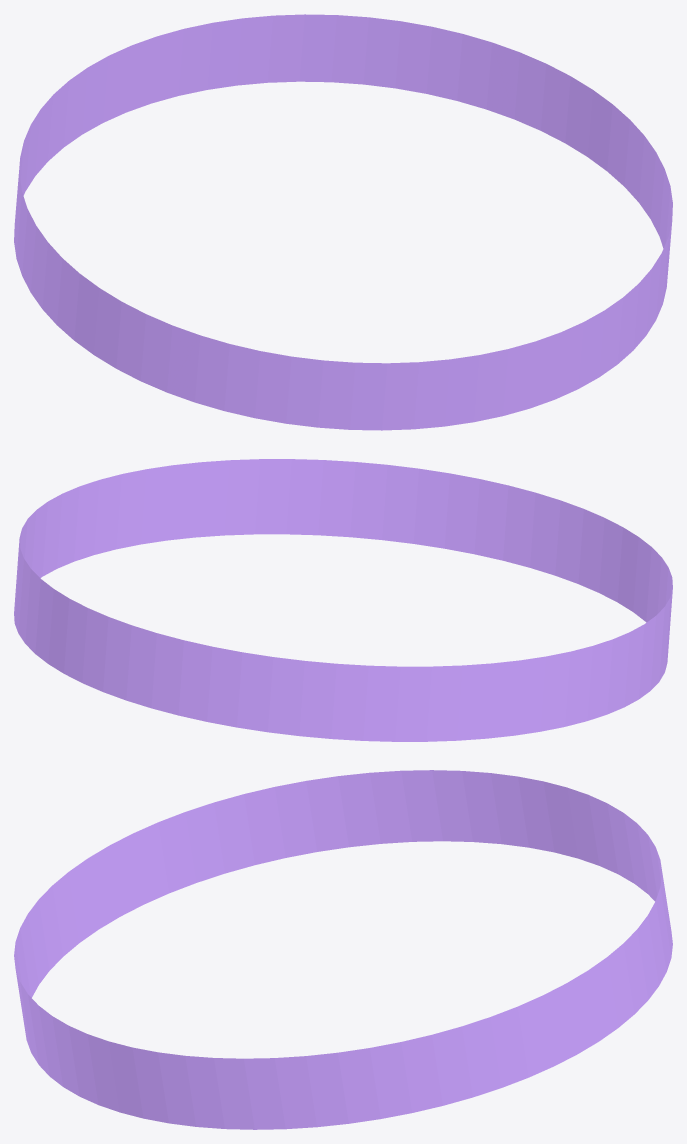
Rendered from fx-concentration.glb.
3 views of the same model, one above another, from view 1: azimuth 30°, elevation 25°; view 2: azimuth 150°, elevation 25°; view 3: azimuth 270°, elevation 25° (orthographic).
Visible parts, largest first — view 1: Concentration_band; view 2: Concentration_band; view 3: Concentration_band.
Boxes of the visible parts, box(x1,y1,x2,y2) form: Concentration_band: box(14, 14, 672, 430); Concentration_band: box(14, 459, 672, 741); Concentration_band: box(14, 770, 672, 1129).
Bounding box in the file's own units: 0.33 × 0.0855 × 0.3324.
1 material, 1 textured.
